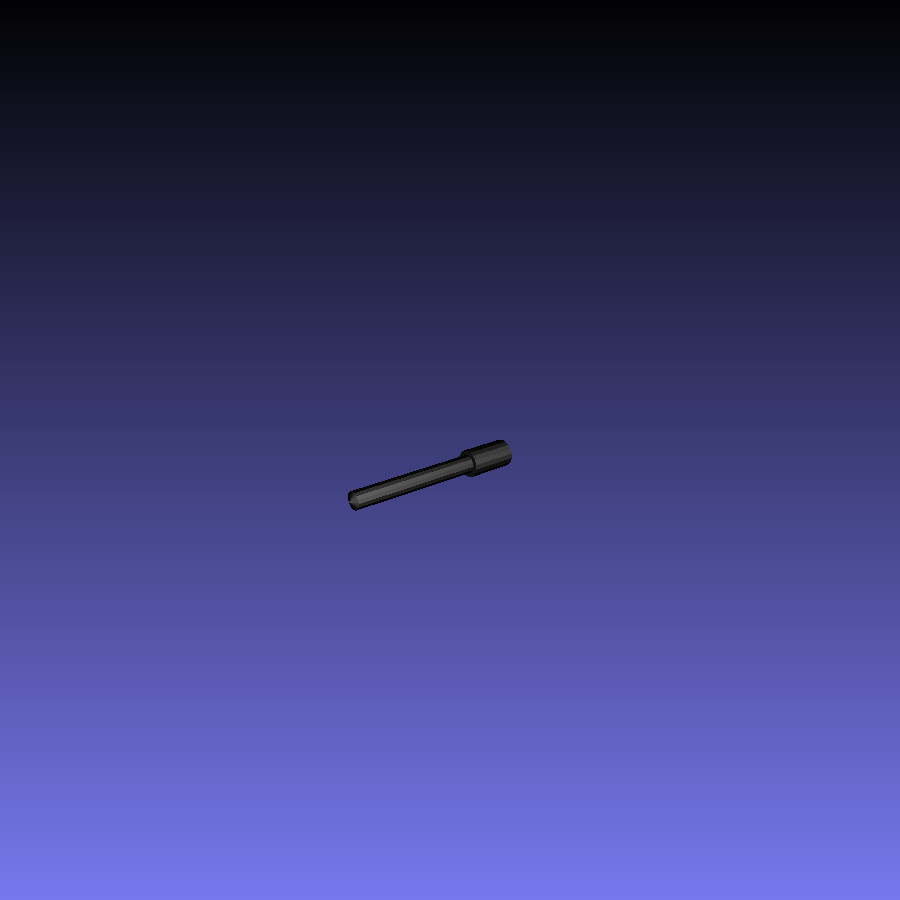cargo_g: (347, 438, 512, 513)
